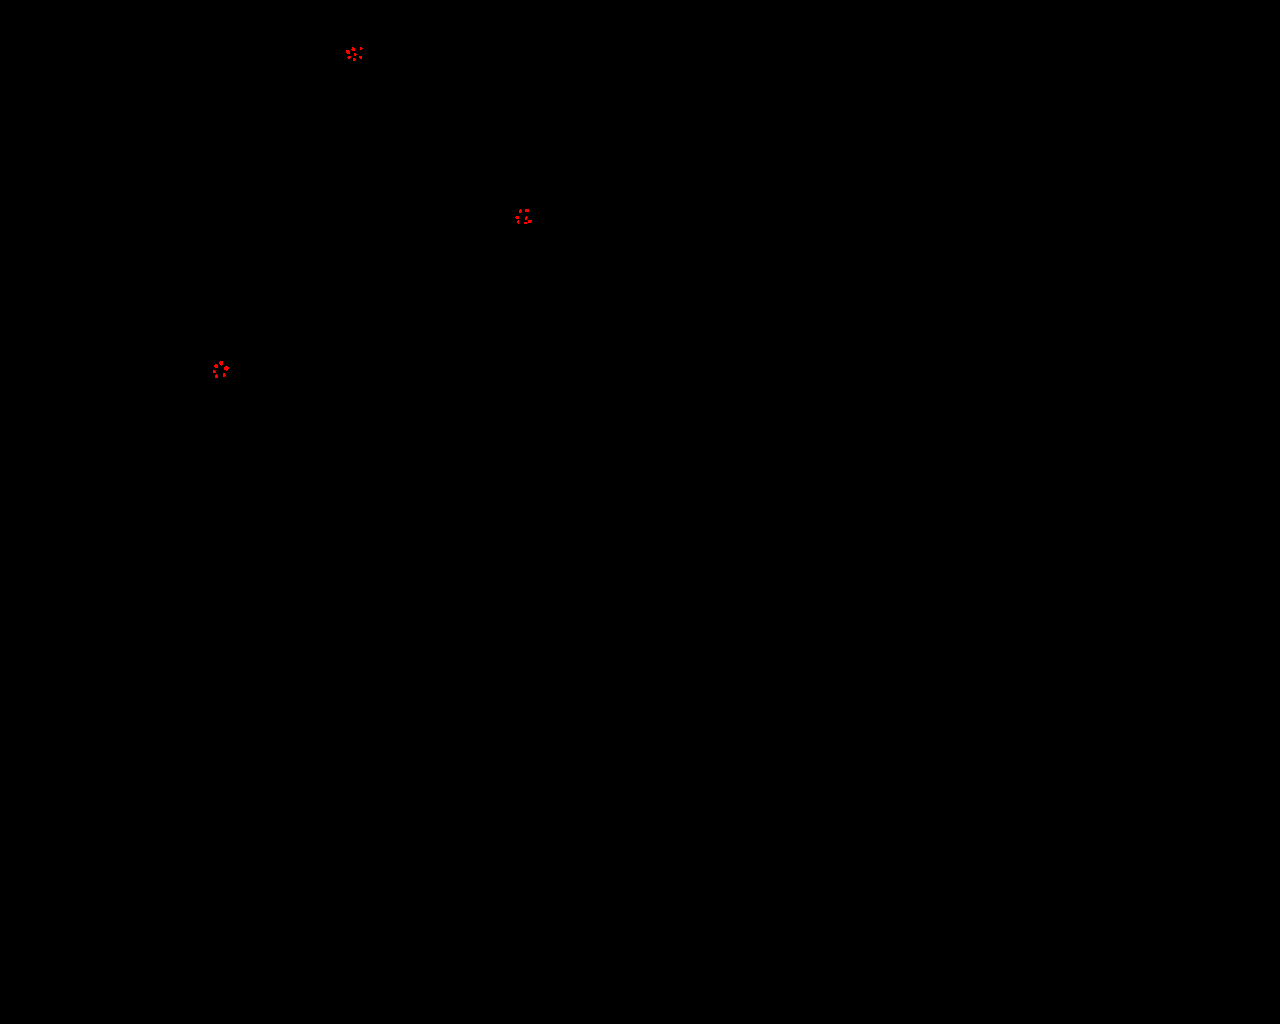Target: (224, 366, 229, 371), (351, 47, 355, 51), (346, 50, 350, 54), (214, 364, 218, 368), (219, 360, 223, 366), (519, 209, 522, 213), (525, 209, 529, 212), (515, 216, 519, 219), (525, 216, 528, 220), (223, 373, 226, 377), (215, 374, 218, 378), (354, 53, 357, 56), (213, 370, 216, 373), (347, 56, 351, 59), (528, 220, 532, 223), (360, 47, 363, 50), (353, 59, 356, 61), (517, 220, 519, 224), (523, 222, 527, 224), (359, 56, 362, 59)
